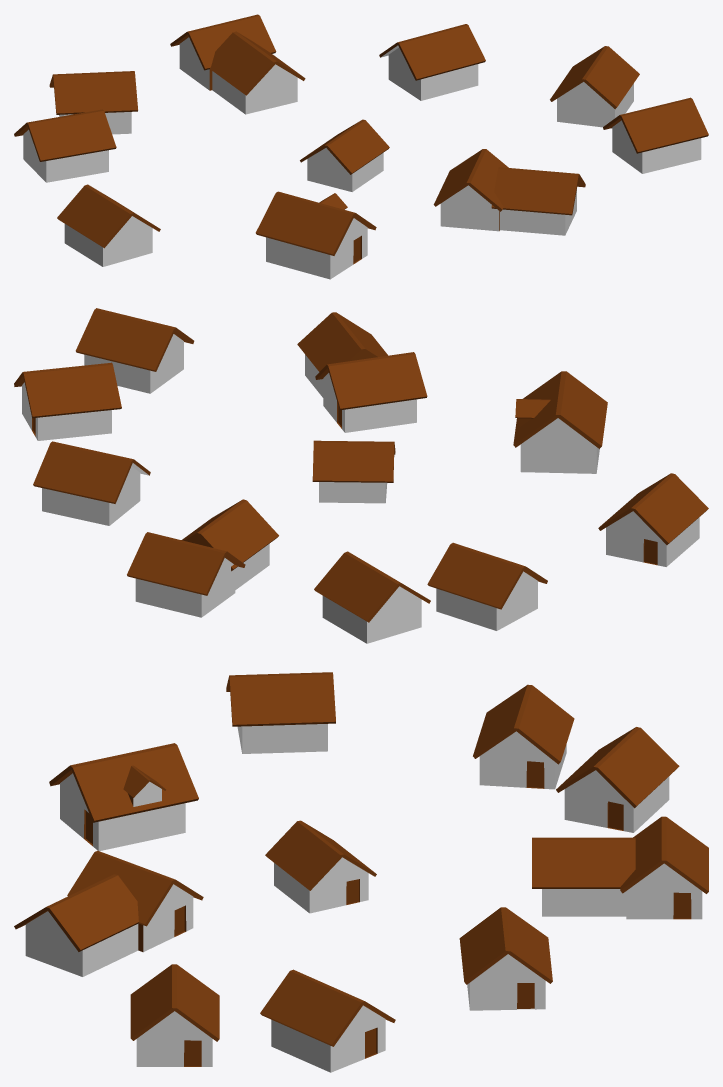
Rendered from Gorod.fbx.
3 renders of one model, top to bottom at view 1: azimuth 30°, elevation 25°; view 2: azimuth 150°, elevation 25°; view 3: azimuth 270°, elevation 25°, orthographic. The views are drawn at different scales.
Parts seen in each view (by area): view 1: Cube.009; view 2: Cube.009; view 3: Cube.009.
Boxes of the visible parts, <box> form: Cube.009: <box>14,14,708,279</box>; Cube.009: <box>14,308,708,643</box>; Cube.009: <box>14,672,708,1072</box>.
Bounding box in the file's own units: 1984 × 182 × 1616.
